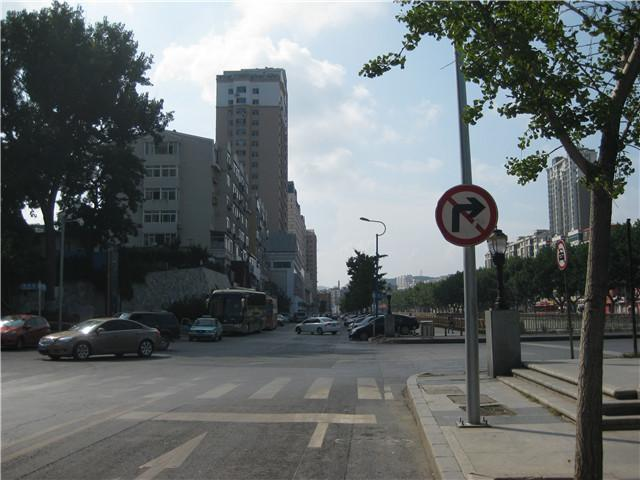not_turn_right: (434, 182, 498, 248)
